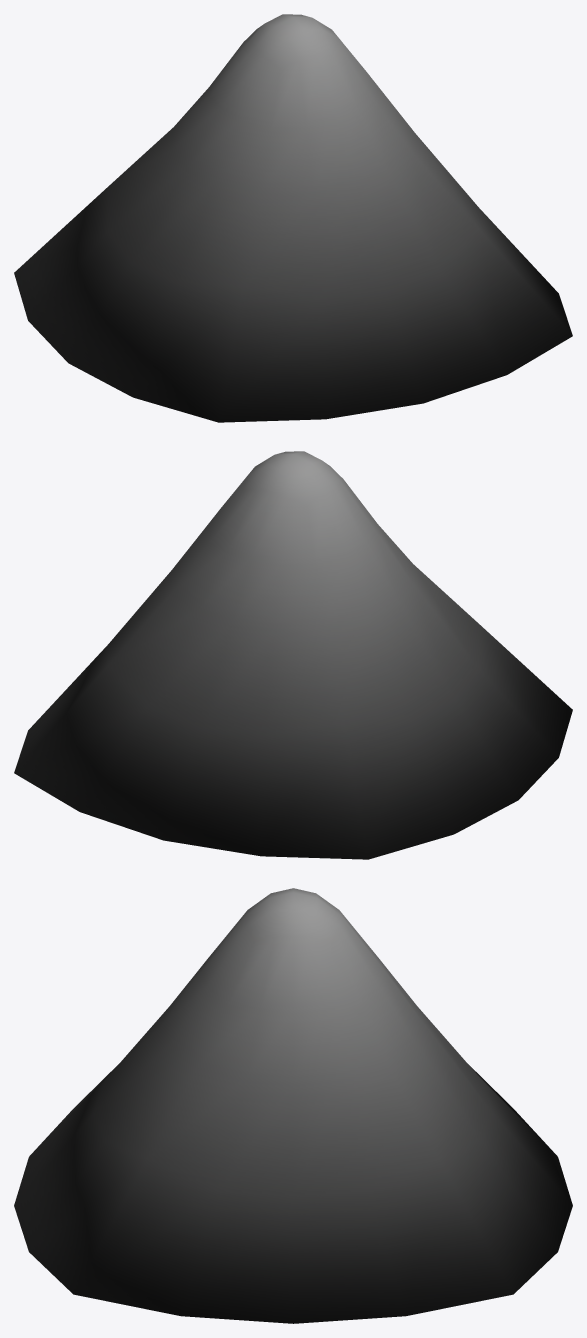
Rendered from SM_Env_Foliage_Mound_Small.fbx.
3 renders of one model, top to bottom at view 1: azimuth 30°, elevation 25°; view 2: azimuth 150°, elevation 25°; view 3: azimuth 270°, elevation 25°, orthographic. The views are drawn at different scales.
Visible parts, largest first — view 1: Gundukan Small; view 2: Gundukan Small; view 3: Gundukan Small.
Part boxes in pixels (bbox=[...]): Gundukan Small: bbox=[14, 14, 572, 422]; Gundukan Small: bbox=[14, 451, 572, 859]; Gundukan Small: bbox=[14, 888, 572, 1323].
Size of the model in its own units: 188 by 117 by 188.
Materials: 1 (1 with a texture image).
